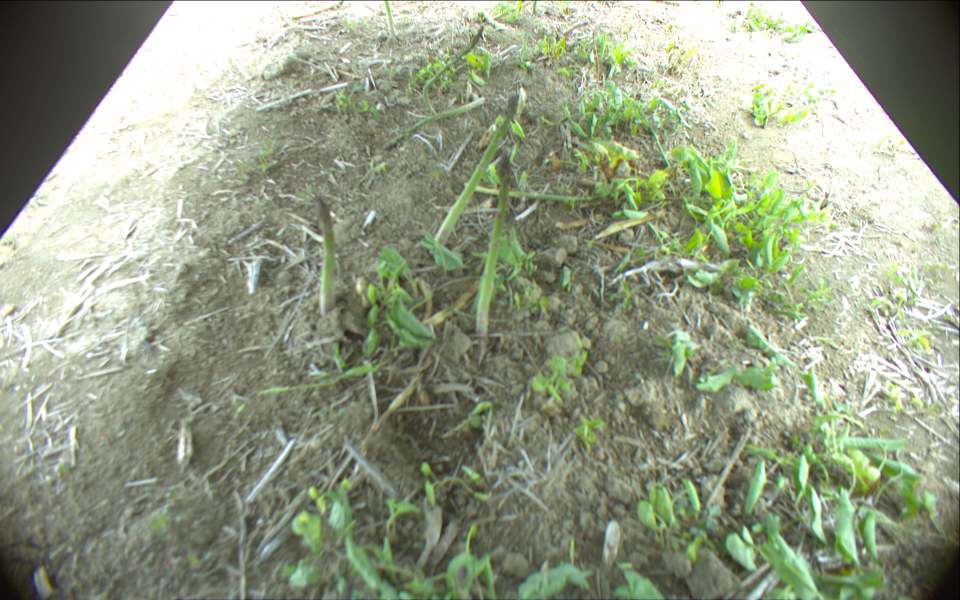aspa: (434, 90, 522, 245), (475, 153, 510, 350), (382, 96, 488, 149), (424, 26, 483, 114), (463, 180, 608, 201), (318, 199, 336, 313), (385, 1, 396, 35)
